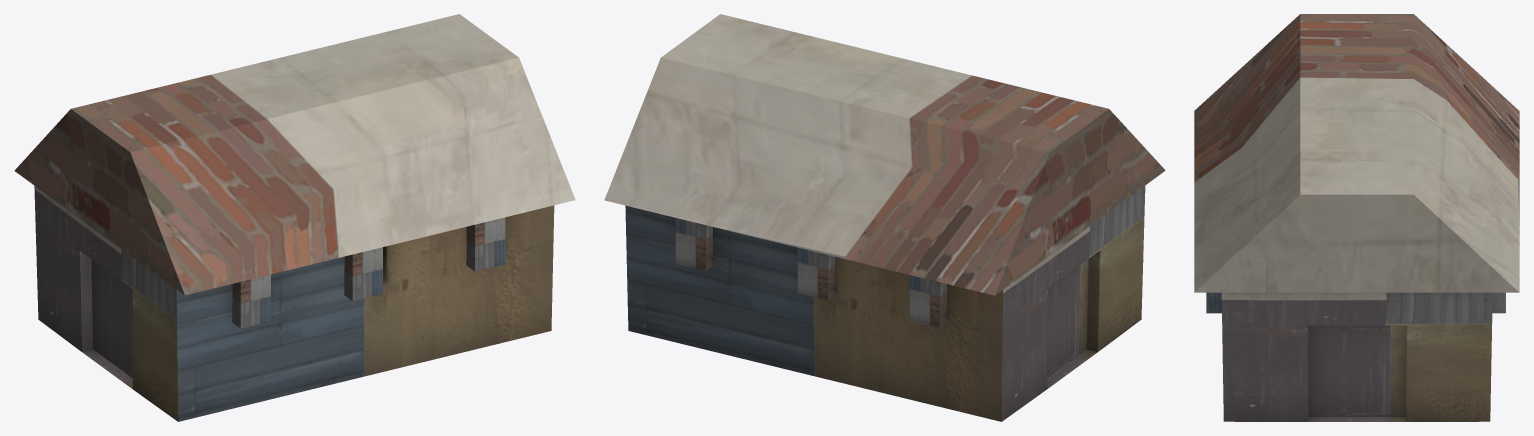
Rendered from small_house.obj.
3 renders of one model, left to right at view 1: azimuth 30°, elevation 25°; view 2: azimuth 150°, elevation 25°; view 3: azimuth 270°, elevation 25°, orthographic. The views are drawn at different scales.
Visible parts, largest first — view 1: facotr__5; view 2: facotr__5; view 3: facotr__5.
Boxes of the visible parts, left/top/right/bottom form: facotr__5: left=14, top=14, right=575, bottom=421; facotr__5: left=604, top=14, right=1165, bottom=421; facotr__5: left=1194, top=14, right=1519, bottom=421.
Bounding box in the file's own units: 843 × 499 × 638.
